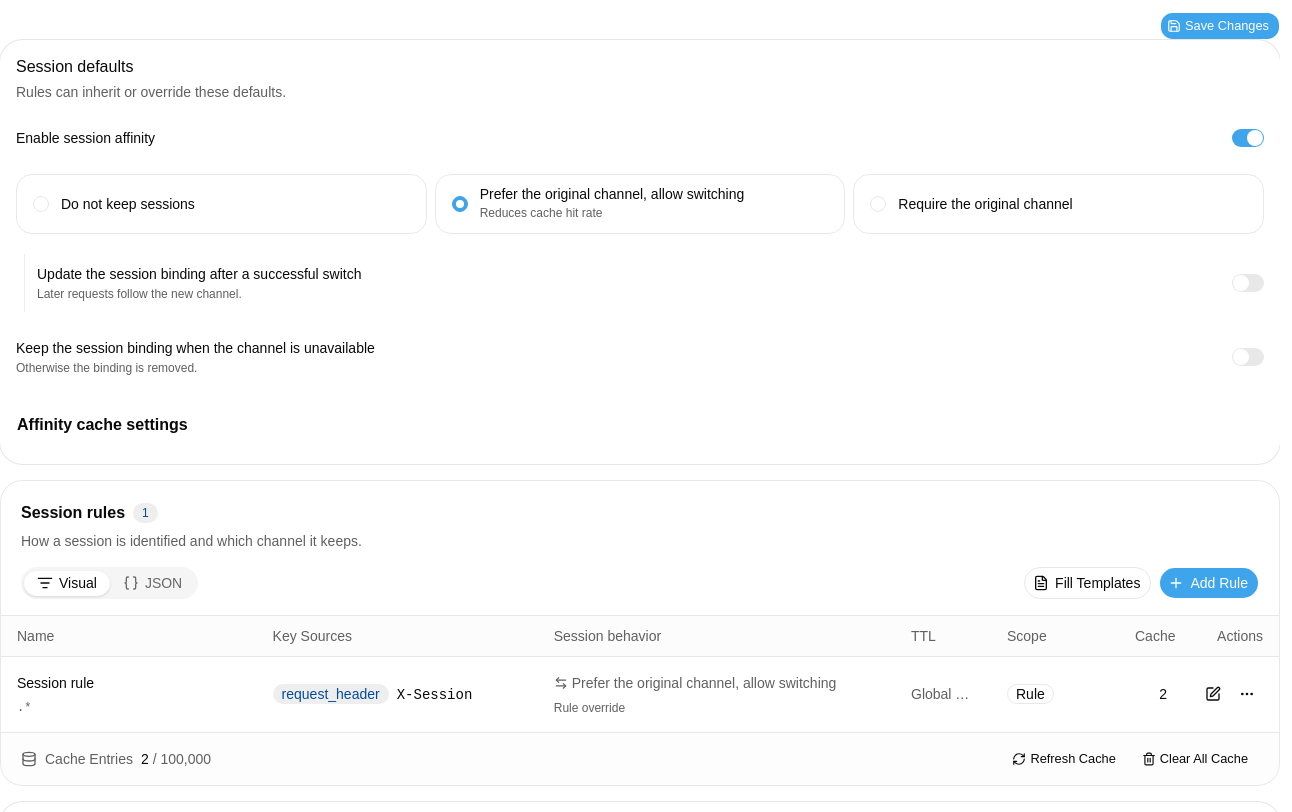
Test: opens global affinity settings and the complete rules table without switching views
expect the table is shown: met, box [1,616,1279,732]
expect the radio button named "Prefer the original channel, allow switching" next to "Reduces cache hit rate" is checked: met, box [452,196,468,212]
Click the button "Affinity cache settings".
click(102, 424)  # box [16,402,1264,448]
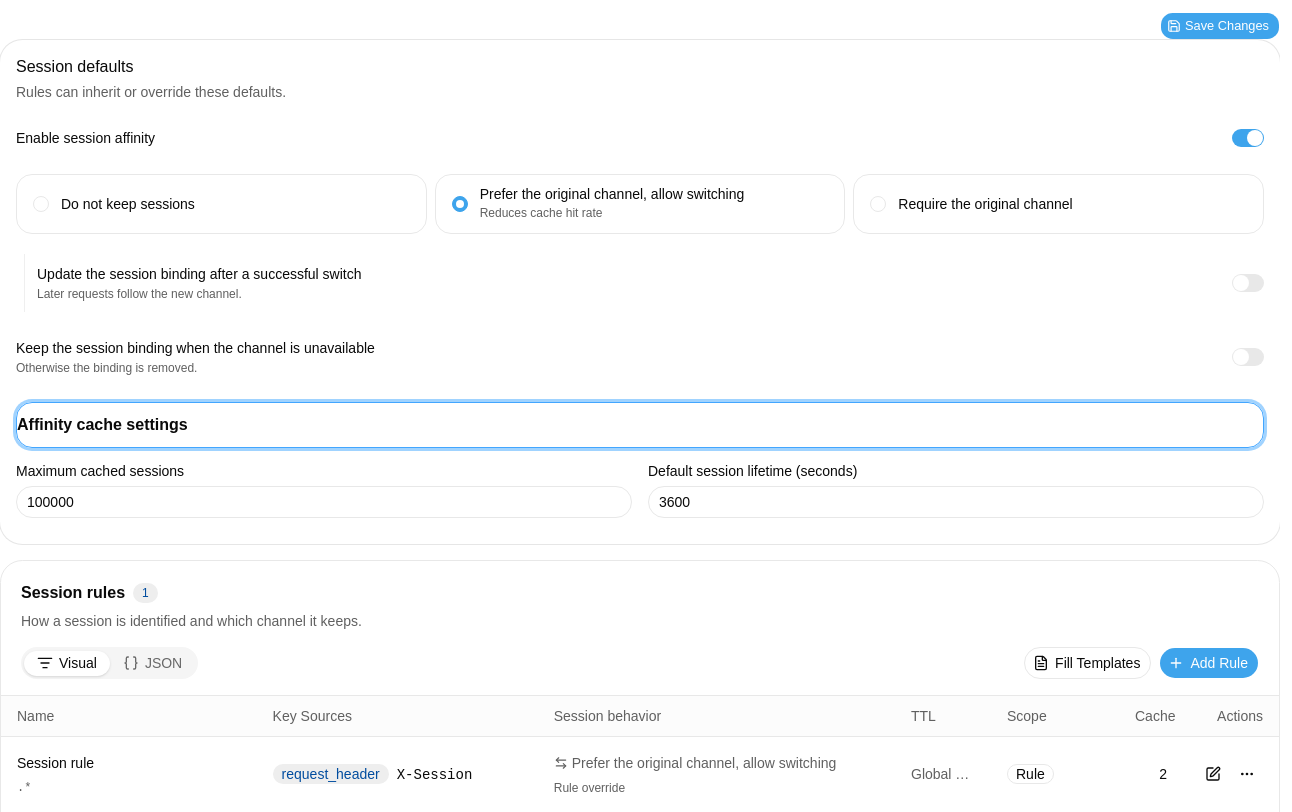
expect the number of buttons "Save Changes" is 1: met, box [1160,12,1280,40]
expect the number field labelled "Maximum cached sessions" is shown: met, box [16,486,632,518]
expect the number field labelled "Default session lifetime (seconds)" is shown: met, box [648,486,1264,518]
